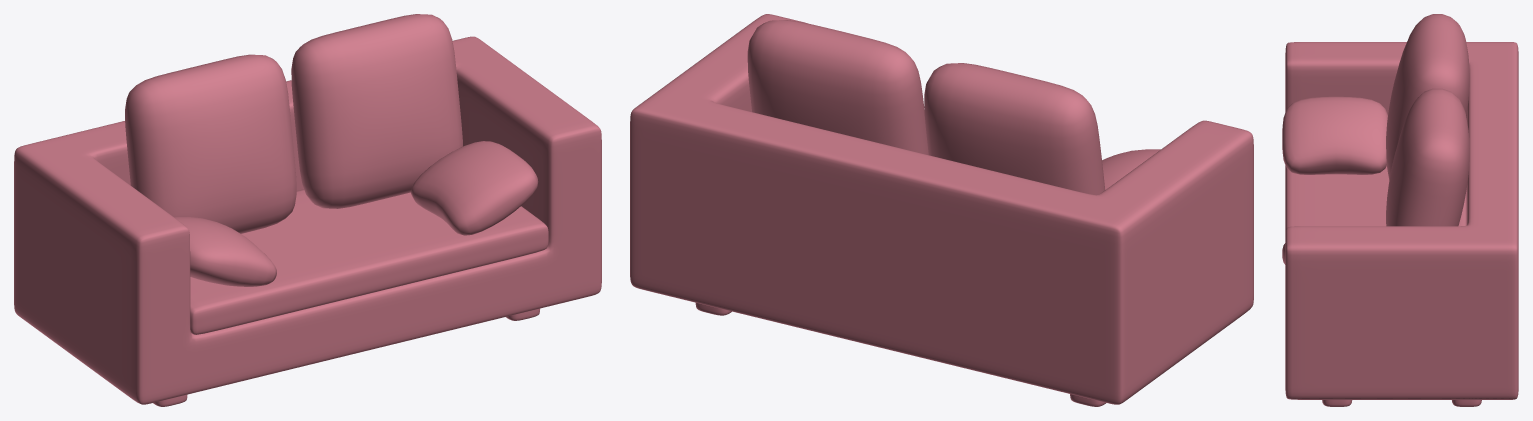
Rendered from couch.glb.
The picture shows the model from 3 angles, left to right: view 1: azimuth 30°, elevation 25°; view 2: azimuth 150°, elevation 25°; view 3: azimuth 270°, elevation 25°; orthographic projection. The views are drawn at different scales.
Visible parts, largest first — view 1: couch; view 2: couch; view 3: couch.
Part boxes in pixels (x1,y1,x2,y2): couch: (14, 14, 601, 406); couch: (630, 14, 1253, 406); couch: (1282, 14, 1518, 406).
Size of the model in its own units: 1.9 by 1.05 by 0.9118.
Materials: 1 (1 with a texture image).
